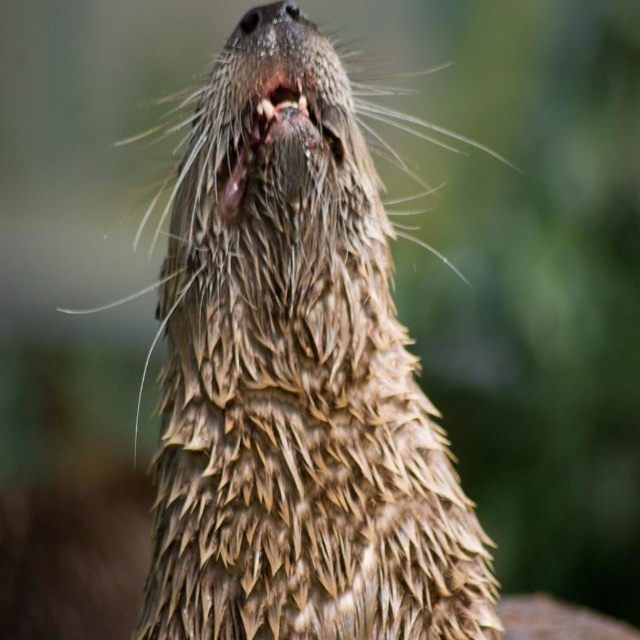Otter: (131, 0, 535, 628)
